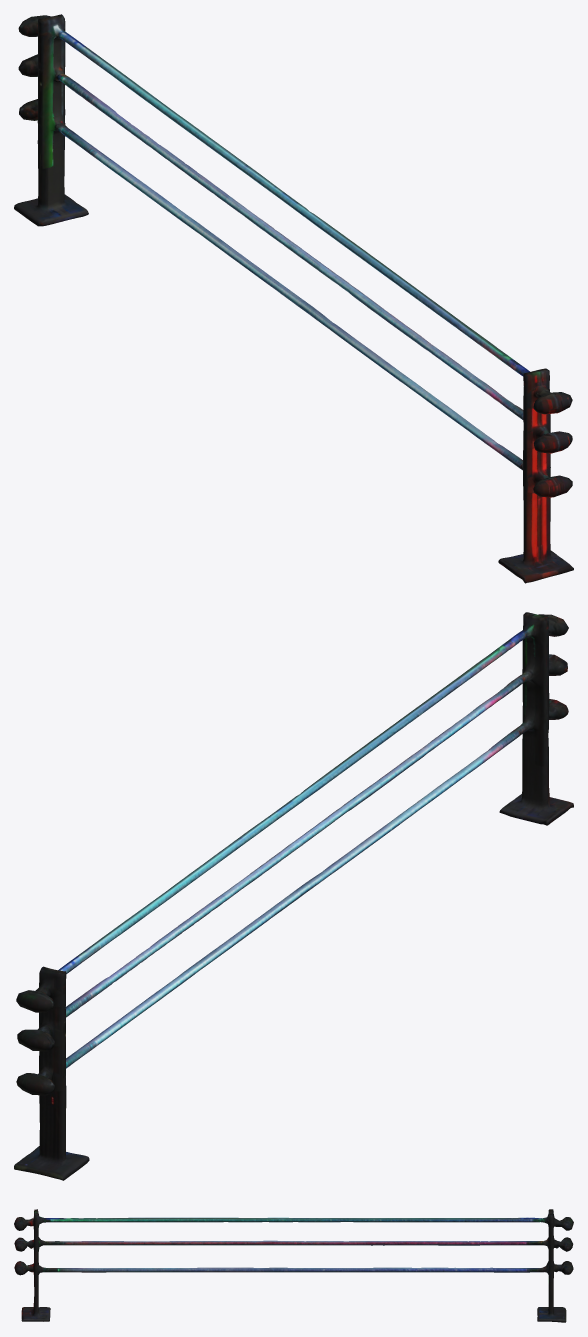
The model's file is 63a0fbe9-397f-4e18-bdc3-51b32295c661.glb.
3 renders of one model, top to bottom at view 1: azimuth 30°, elevation 25°; view 2: azimuth 150°, elevation 25°; view 3: azimuth 270°, elevation 25°, orthographic. The views are drawn at different scales.
Size of the model in its own units: 0.1101 by 0.4103 by 2.
1 material, 1 textured.
